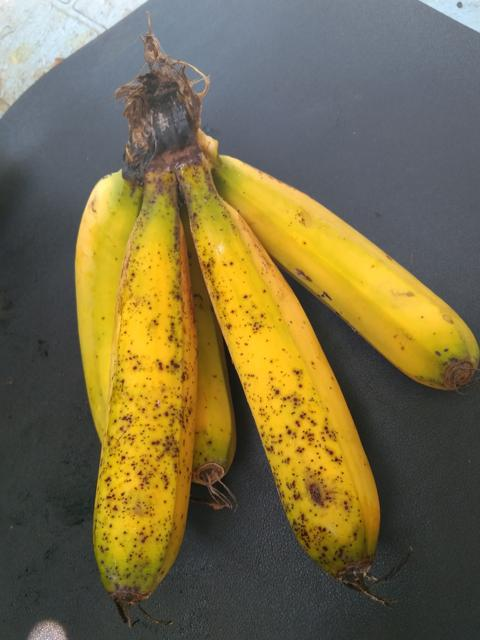ripe: (190, 202, 405, 593), (79, 195, 224, 639)
